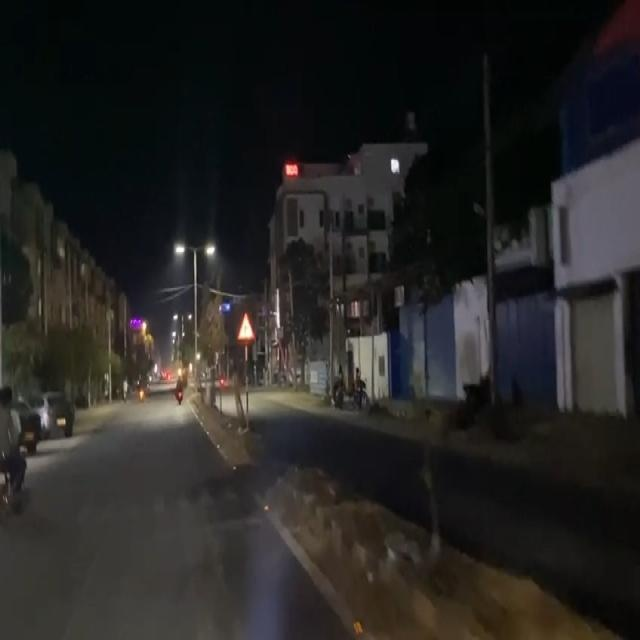bien_nguy_hiem: (237, 310, 255, 344)
